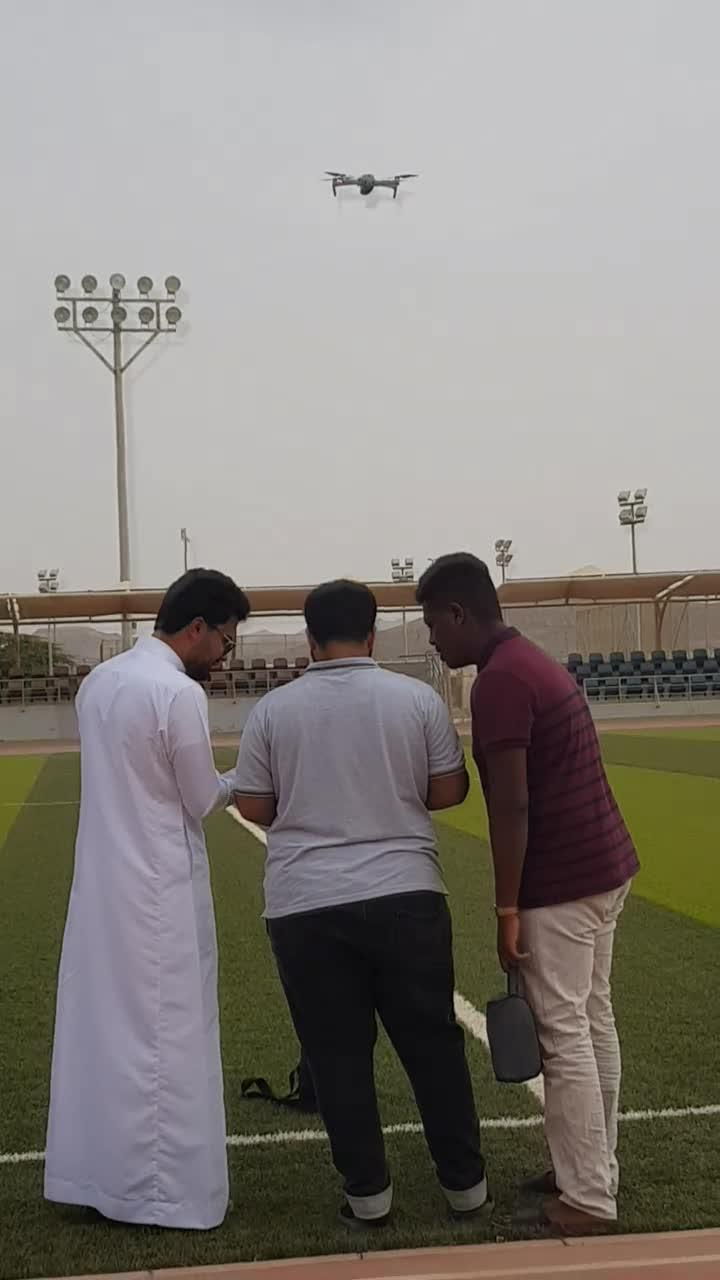drone: (316, 160, 422, 218)
